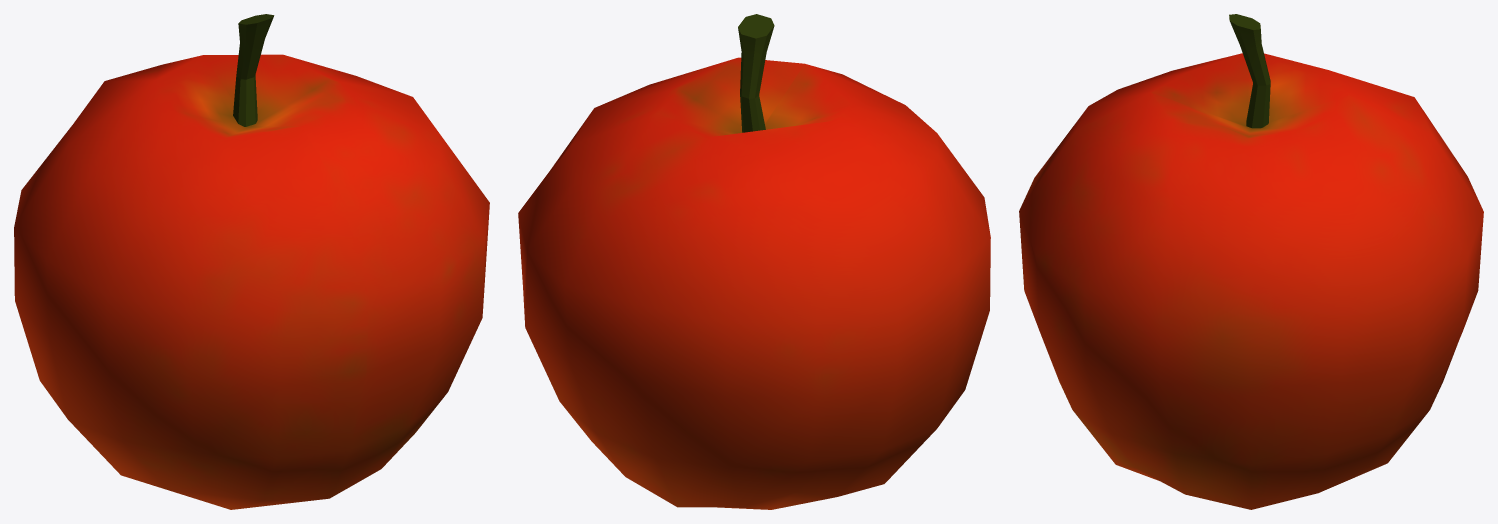
Rendered from Apple.fbx.
3 renders of one model, left to right at view 1: azimuth 30°, elevation 25°; view 2: azimuth 150°, elevation 25°; view 3: azimuth 270°, elevation 25°, orthographic.
Visible parts, largest first — view 1: Apple; view 2: Apple; view 3: Apple.
Part boxes in pixels (box(x1,y1,x2,y2)): Apple: box(14, 14, 489, 509); Apple: box(518, 14, 990, 509); Apple: box(1019, 14, 1483, 509).
Bounding box in the file's own units: 8.53 × 9.19 × 8.43.
